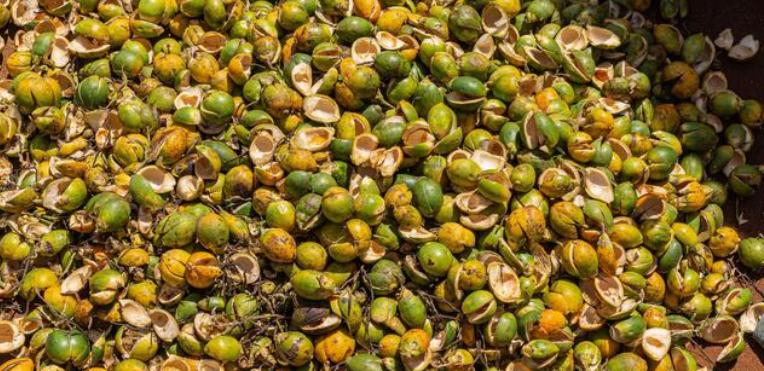organic: (12, 73, 60, 116), (46, 328, 92, 366), (40, 177, 85, 215), (506, 205, 547, 245), (155, 211, 198, 248), (486, 260, 521, 304), (94, 194, 132, 234), (289, 305, 341, 334), (562, 240, 599, 280), (592, 273, 628, 314), (184, 250, 222, 288), (154, 126, 191, 165), (88, 267, 128, 303), (412, 174, 446, 216), (195, 211, 230, 251), (274, 331, 314, 366), (344, 63, 381, 100), (447, 3, 482, 42), (696, 314, 740, 345), (18, 266, 58, 300), (200, 139, 241, 172), (132, 164, 174, 196), (290, 268, 332, 300), (417, 241, 454, 277), (662, 61, 698, 98), (158, 248, 192, 287), (368, 258, 405, 293), (200, 89, 237, 124), (548, 202, 585, 237), (537, 166, 576, 199), (225, 251, 261, 286), (321, 186, 356, 222), (75, 75, 111, 110), (260, 228, 296, 263), (112, 134, 149, 168), (247, 130, 279, 169), (679, 121, 718, 153), (117, 99, 156, 131), (398, 328, 432, 364), (578, 106, 614, 140), (193, 311, 231, 343), (609, 313, 647, 345), (302, 94, 341, 125), (335, 15, 375, 45), (550, 279, 584, 314), (277, 145, 318, 174), (411, 79, 444, 115), (461, 290, 497, 323), (438, 222, 475, 254), (294, 193, 325, 231), (639, 327, 673, 361), (729, 163, 763, 197), (148, 307, 180, 343), (67, 33, 109, 60), (645, 145, 679, 178), (118, 299, 153, 331), (373, 116, 408, 148), (110, 48, 146, 79), (224, 164, 255, 200), (397, 291, 427, 328), (667, 265, 701, 297), (447, 157, 482, 188), (489, 311, 519, 347), (283, 53, 313, 89), (0, 186, 38, 214), (353, 190, 386, 222), (264, 200, 297, 232), (153, 51, 185, 84), (295, 241, 329, 272), (567, 48, 597, 83), (336, 112, 371, 142), (374, 51, 411, 79), (475, 177, 512, 205), (582, 199, 614, 231), (387, 72, 418, 105), (38, 228, 71, 259), (708, 226, 741, 257), (310, 42, 344, 72), (515, 302, 545, 336), (491, 70, 522, 102), (227, 293, 259, 324), (0, 231, 32, 262), (187, 53, 219, 84), (520, 338, 561, 362), (609, 220, 644, 248), (456, 259, 487, 290), (429, 51, 459, 83), (653, 23, 683, 55), (709, 90, 742, 119), (622, 246, 655, 275), (611, 182, 639, 216), (726, 34, 761, 61), (369, 296, 398, 328), (278, 1, 310, 30), (680, 291, 712, 320), (658, 237, 684, 272), (0, 318, 25, 354), (284, 170, 315, 199), (146, 86, 178, 114), (584, 25, 621, 49), (448, 75, 486, 98), (706, 145, 735, 175), (651, 103, 680, 133), (681, 32, 708, 64), (738, 236, 764, 269), (376, 7, 409, 33), (52, 158, 91, 180), (0, 262, 23, 299), (194, 30, 228, 55), (723, 123, 752, 152), (573, 340, 602, 369), (252, 35, 280, 65), (665, 312, 697, 338), (175, 174, 203, 203), (28, 133, 57, 161), (724, 286, 753, 314), (6, 49, 34, 78), (28, 327, 56, 356), (246, 336, 274, 365), (670, 222, 700, 249), (344, 352, 386, 371), (176, 329, 204, 357), (701, 69, 728, 98), (421, 155, 448, 184), (345, 218, 372, 247), (137, 0, 171, 23), (510, 163, 536, 193), (620, 156, 648, 183), (373, 223, 400, 251), (10, 0, 39, 26), (130, 18, 164, 40), (117, 247, 151, 269), (31, 32, 55, 63), (239, 109, 274, 130), (507, 95, 534, 122), (700, 179, 727, 206), (679, 153, 704, 182), (203, 0, 228, 29), (670, 346, 699, 371), (464, 128, 494, 152), (526, 0, 557, 23), (444, 348, 475, 371), (739, 99, 763, 128), (322, 160, 348, 186), (626, 71, 651, 98), (642, 305, 669, 330), (590, 139, 614, 167), (79, 58, 111, 79), (0, 111, 19, 146), (625, 33, 647, 63), (561, 3, 592, 24), (205, 173, 226, 204), (242, 76, 265, 104), (702, 202, 725, 230), (73, 299, 95, 328), (172, 106, 202, 127), (174, 299, 199, 324), (433, 280, 456, 307), (352, 1, 381, 22), (701, 272, 727, 295), (252, 17, 278, 40), (40, 0, 73, 18), (394, 173, 423, 193), (659, 0, 688, 20), (422, 17, 447, 40), (97, 2, 125, 22), (330, 138, 354, 161), (168, 14, 191, 38), (153, 38, 181, 57), (280, 113, 304, 135), (229, 19, 253, 40), (320, 0, 349, 17), (490, 0, 521, 15), (714, 28, 734, 50), (204, 295, 226, 313), (461, 321, 476, 346), (36, 159, 52, 182), (19, 171, 38, 190), (91, 246, 110, 264), (628, 0, 652, 13)
